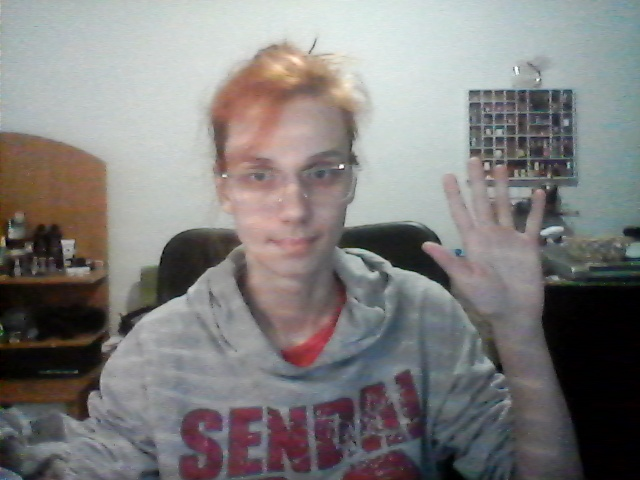ahoj: (412, 152, 560, 328)
